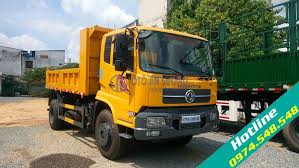truck: (45, 24, 214, 161)
